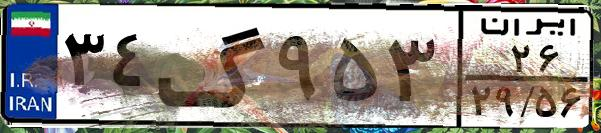2: (508, 27, 537, 80), (470, 70, 495, 125)
3: (385, 28, 445, 110), (57, 26, 110, 100)
4: (110, 28, 156, 98)
5: (330, 28, 385, 110), (535, 70, 560, 125)
6: (560, 70, 590, 125), (537, 27, 568, 80)
9: (270, 28, 330, 110), (495, 70, 520, 125)
گ: (156, 12, 270, 120)
